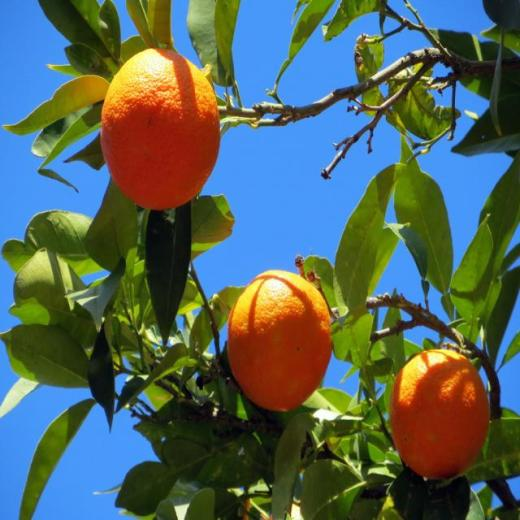Grape: (99, 47, 220, 211), (100, 48, 219, 210), (226, 269, 333, 411), (228, 270, 333, 412), (390, 348, 491, 482), (390, 349, 490, 478)
